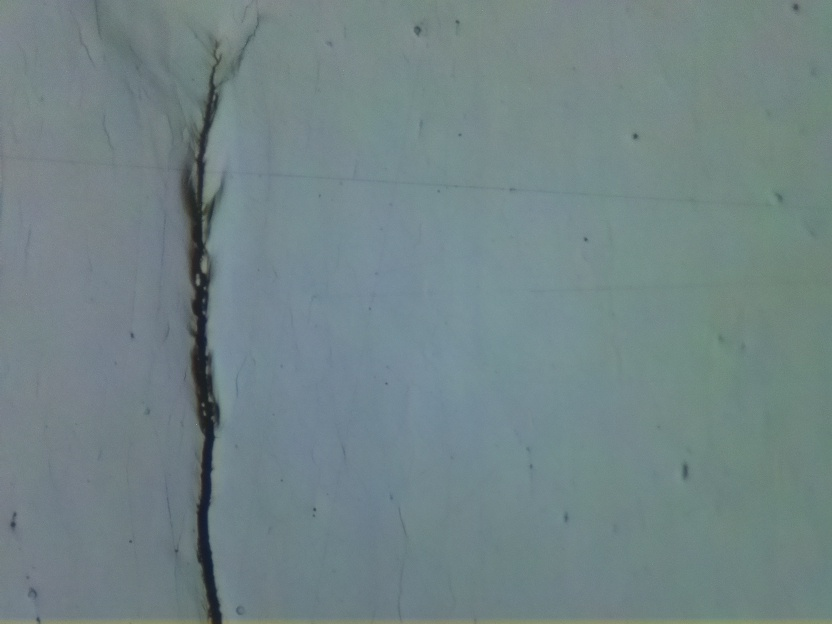crack: (187, 37, 231, 624)
